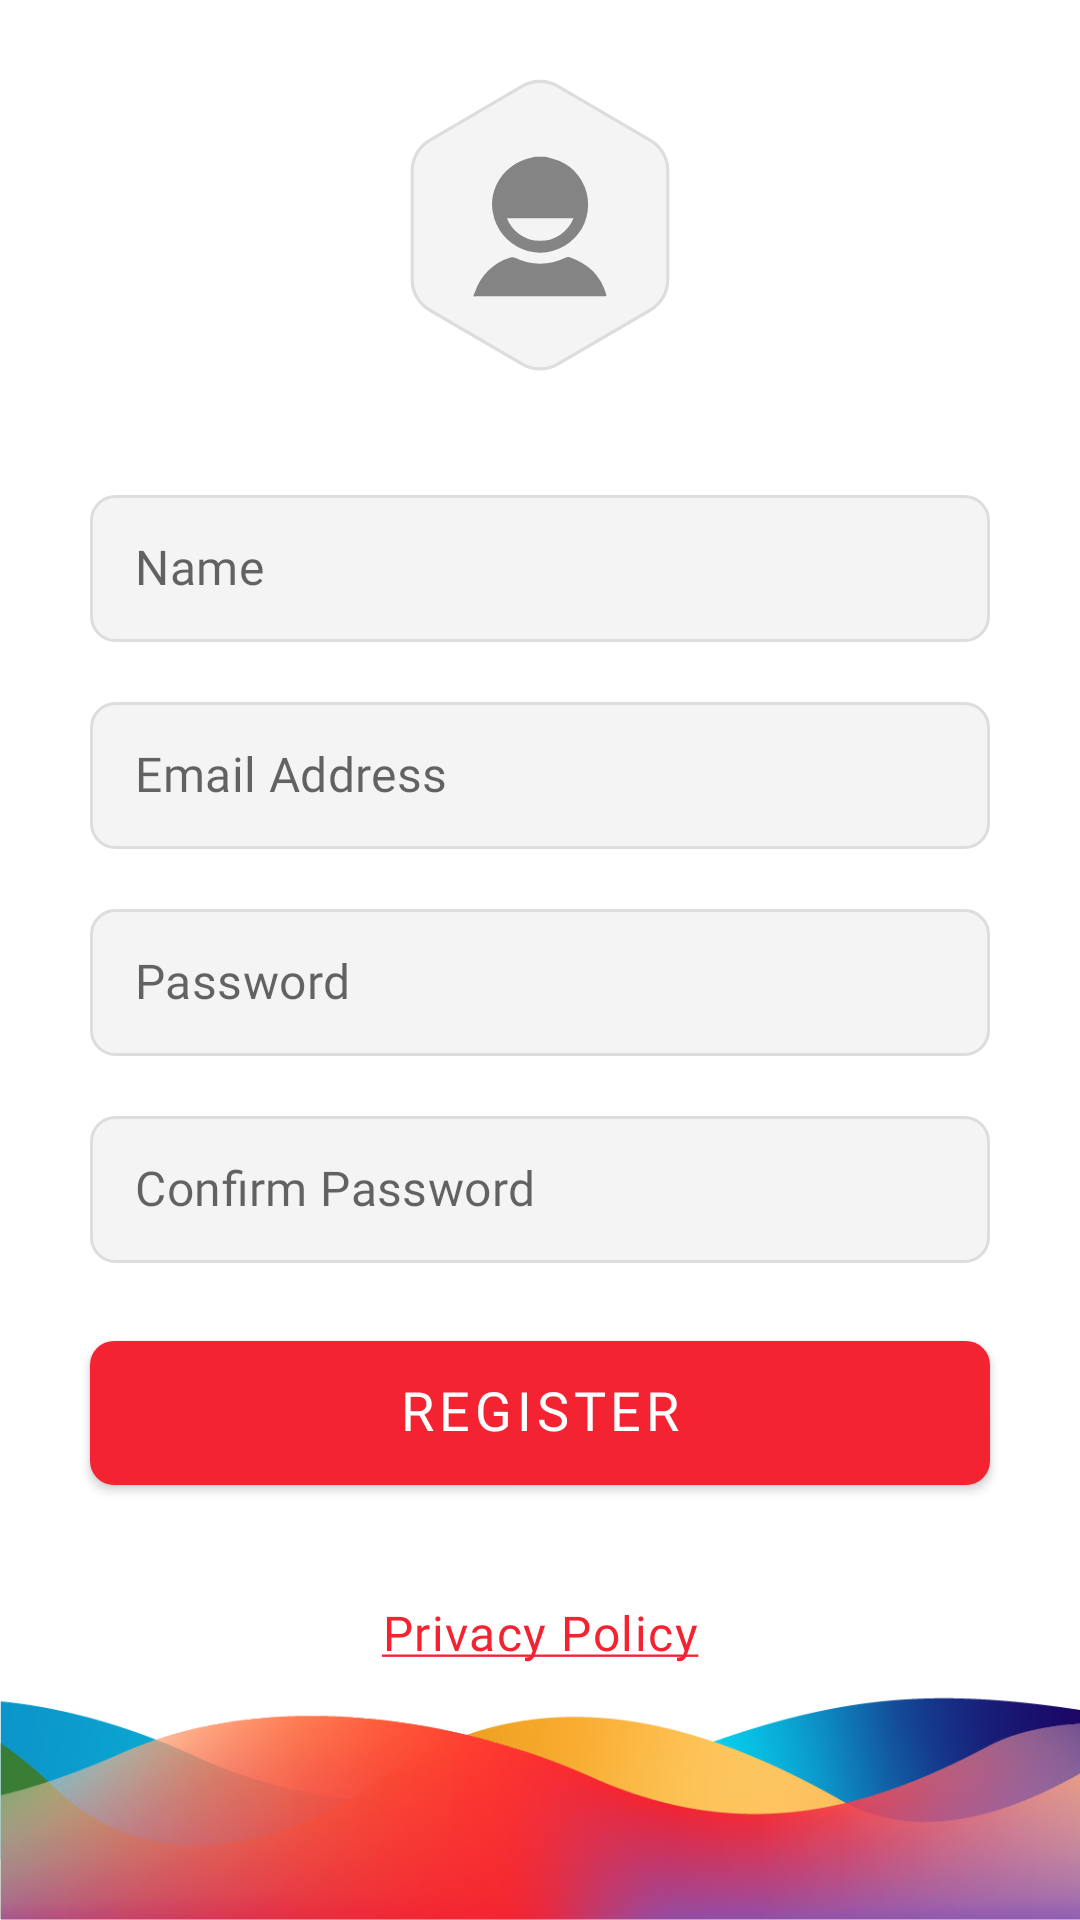

Icons on this 1080px x 1920px Android screen, each with the point to tap as (x,y):
profile: (540,225)
